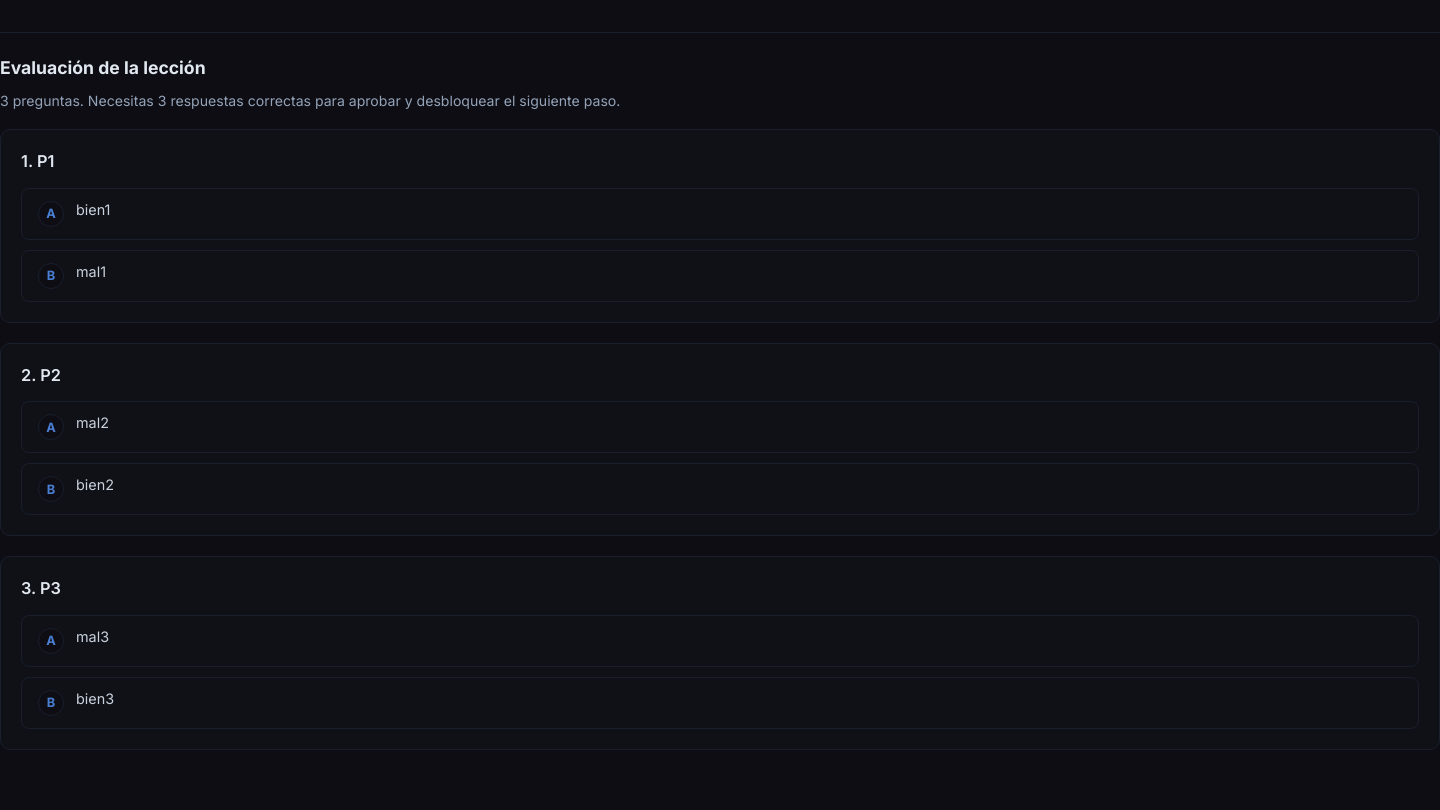
Quiz › aprueba con el 70% y avisa una sola vez
The width and height of the screenshot is (1440, 810).
expect the text "Necesitas 3 respuestas" is shown: met, box top-left (0, 92), bottom-right (620, 109)
Click the button "A bien1" at coordinates (93, 209), box top-left (21, 188), bottom-right (1419, 240)
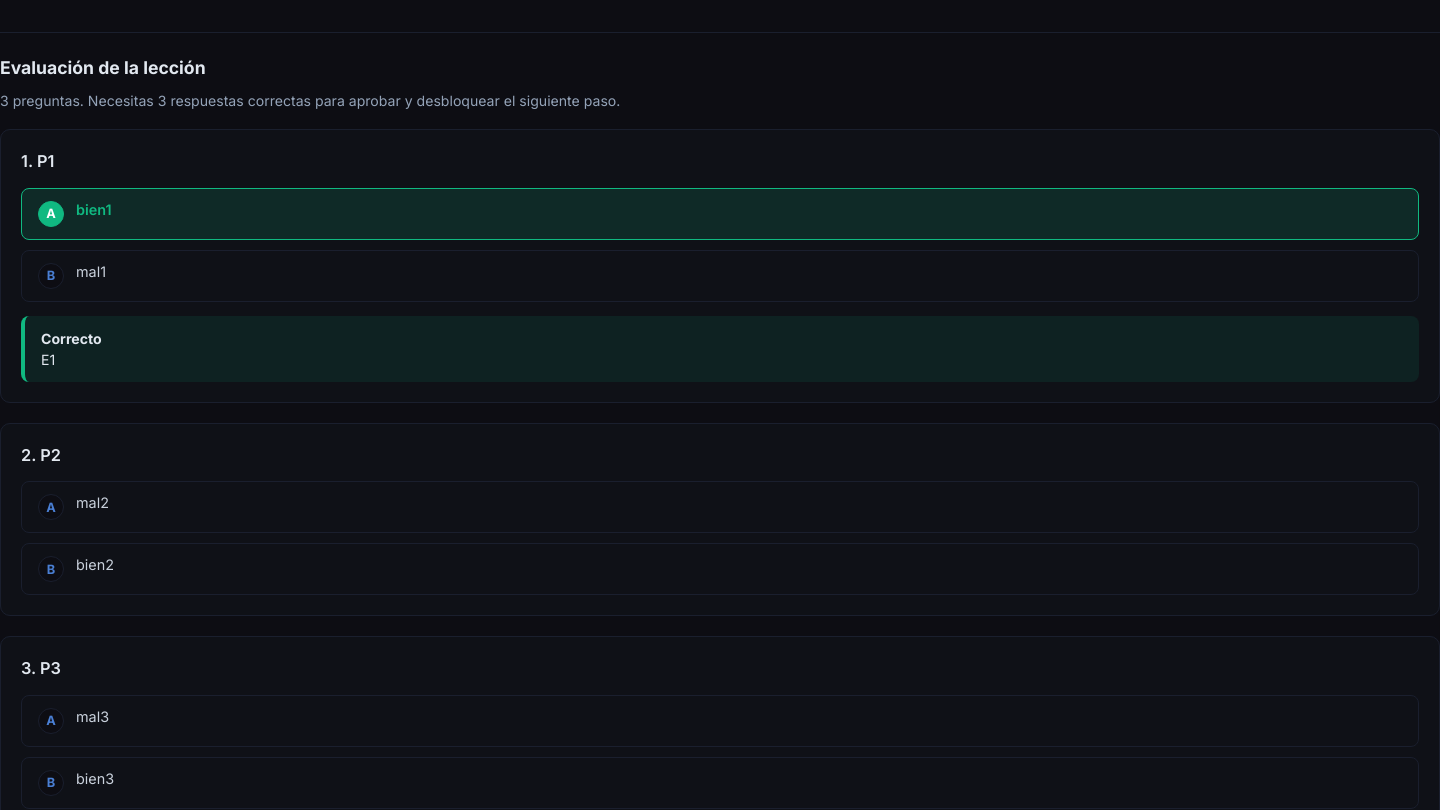
Click the button "B bien2" at coordinates (95, 565), box top-left (21, 543), bottom-right (1419, 595)
(page scrolled)
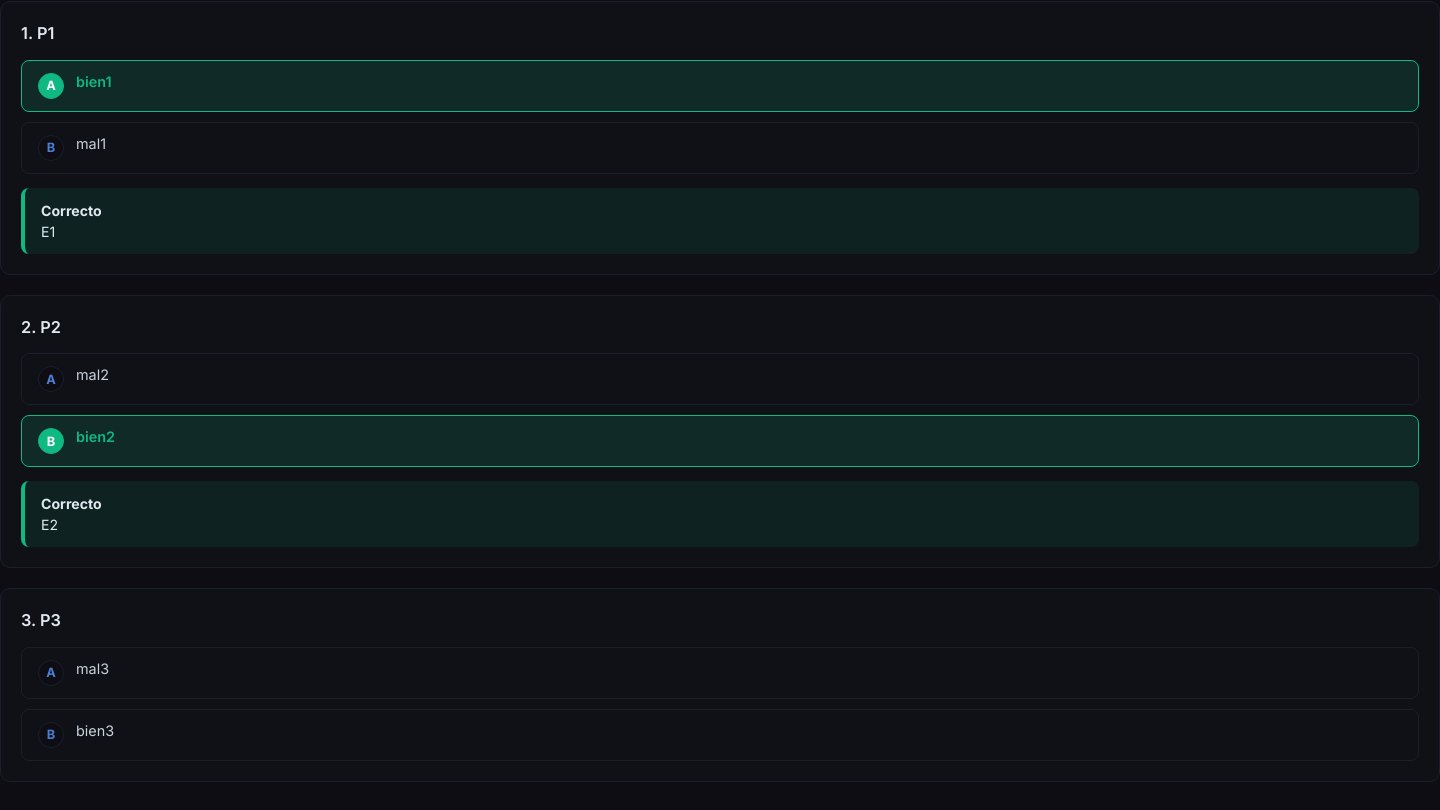
Click the button "B bien3" at coordinates (95, 730), box top-left (21, 709), bottom-right (1419, 761)
(page scrolled)
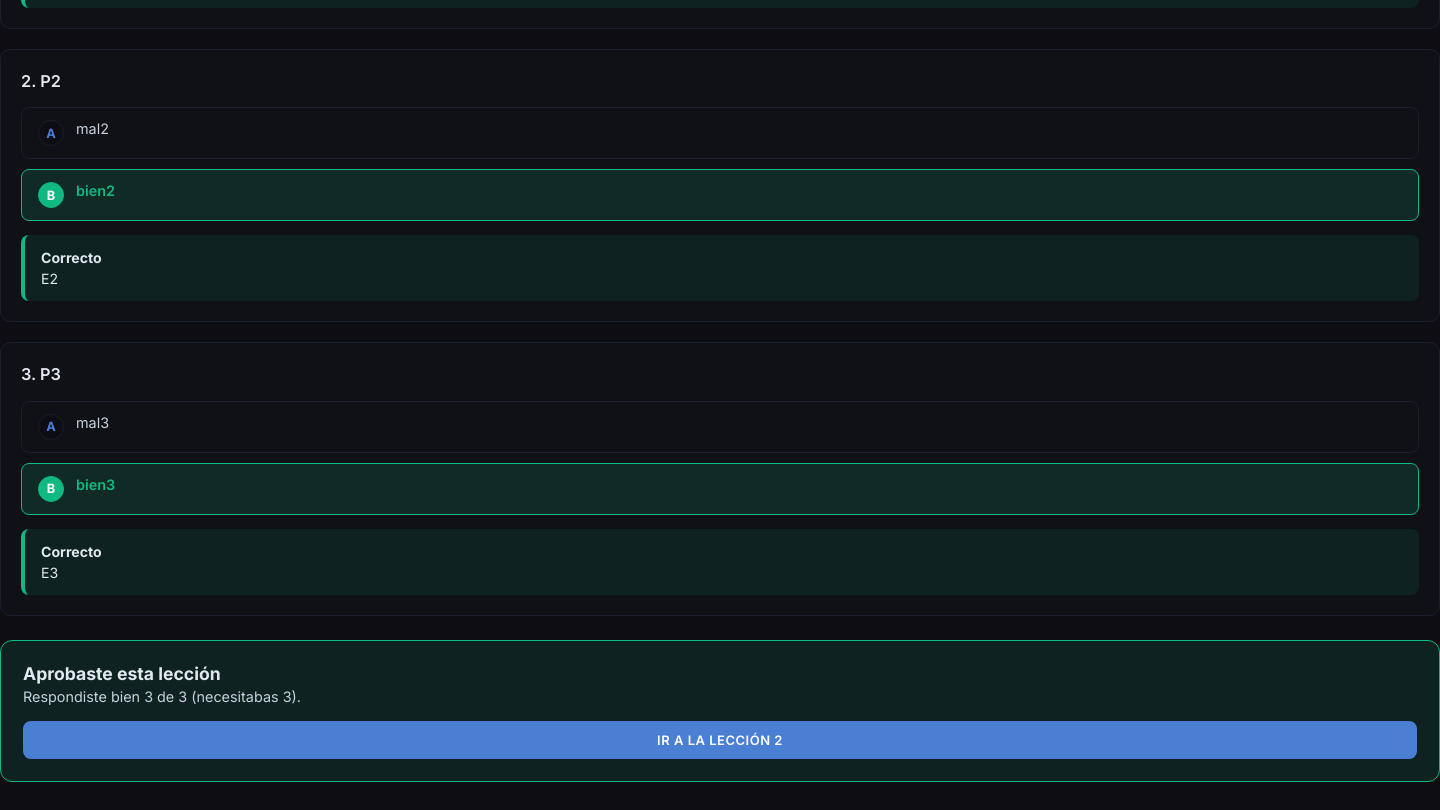
expect the heading "Aprobaste esta lección" is shown: met, box top-left (23, 663), bottom-right (221, 684)
expect the button "Ir a la lección 2" is shown: met, box top-left (23, 721), bottom-right (1417, 759)
